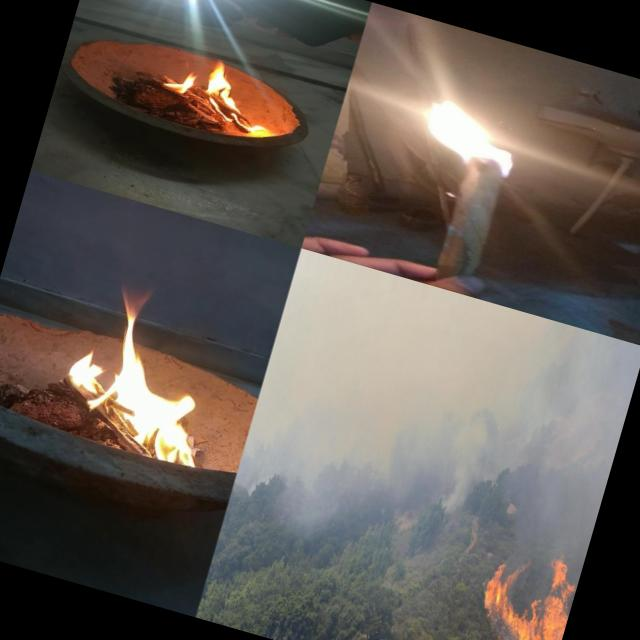fire: (41, 279, 229, 470), (398, 80, 550, 182), (456, 545, 581, 640), (196, 54, 282, 136), (160, 64, 200, 100)
smoke: (236, 247, 640, 569)
